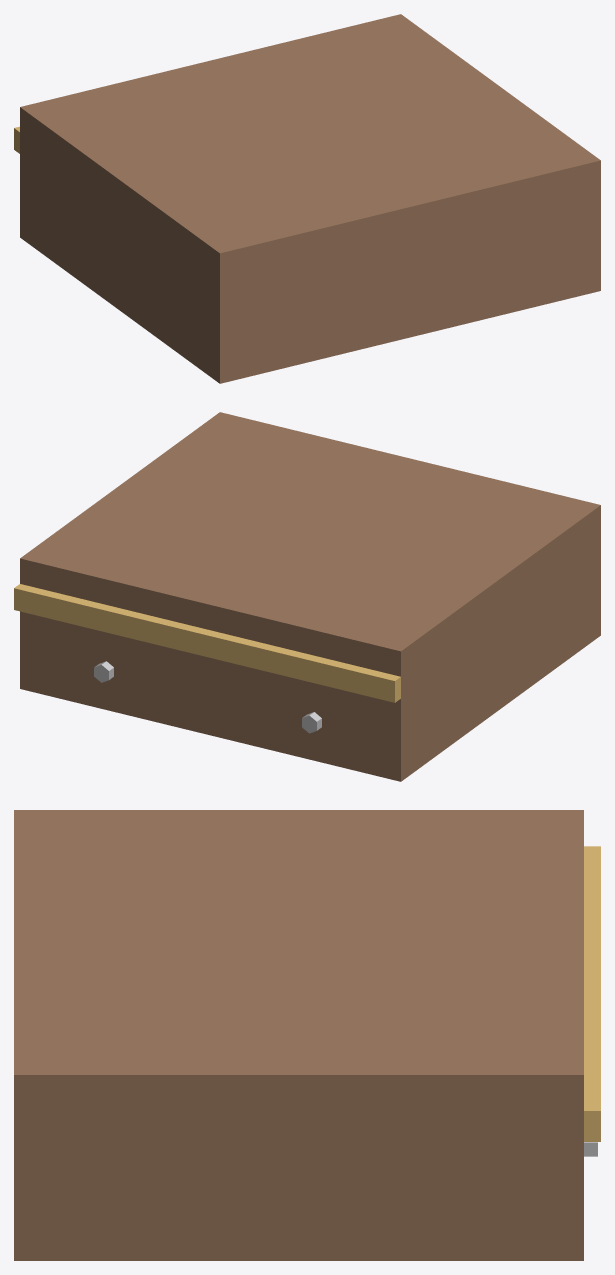
File: CO_Base_Plinth.fbx
3 renders of one model, top to bottom at view 1: azimuth 30°, elevation 25°; view 2: azimuth 150°, elevation 25°; view 3: azimuth 270°, elevation 25°, orthographic. The views are drawn at different scales.
Parts seen in each view (by area): view 1: CO_Base_Plinth; view 2: CO_Base_Plinth; view 3: CO_Base_Plinth.
Boxes of the visible parts, x1,y1,x2,y2 form: CO_Base_Plinth: (14, 14, 600, 383); CO_Base_Plinth: (14, 412, 600, 781); CO_Base_Plinth: (14, 810, 600, 1260).
Size of the model in its own units: 1.1 by 0.36 by 1.03.
